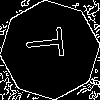T: (25, 25, 73, 60)
